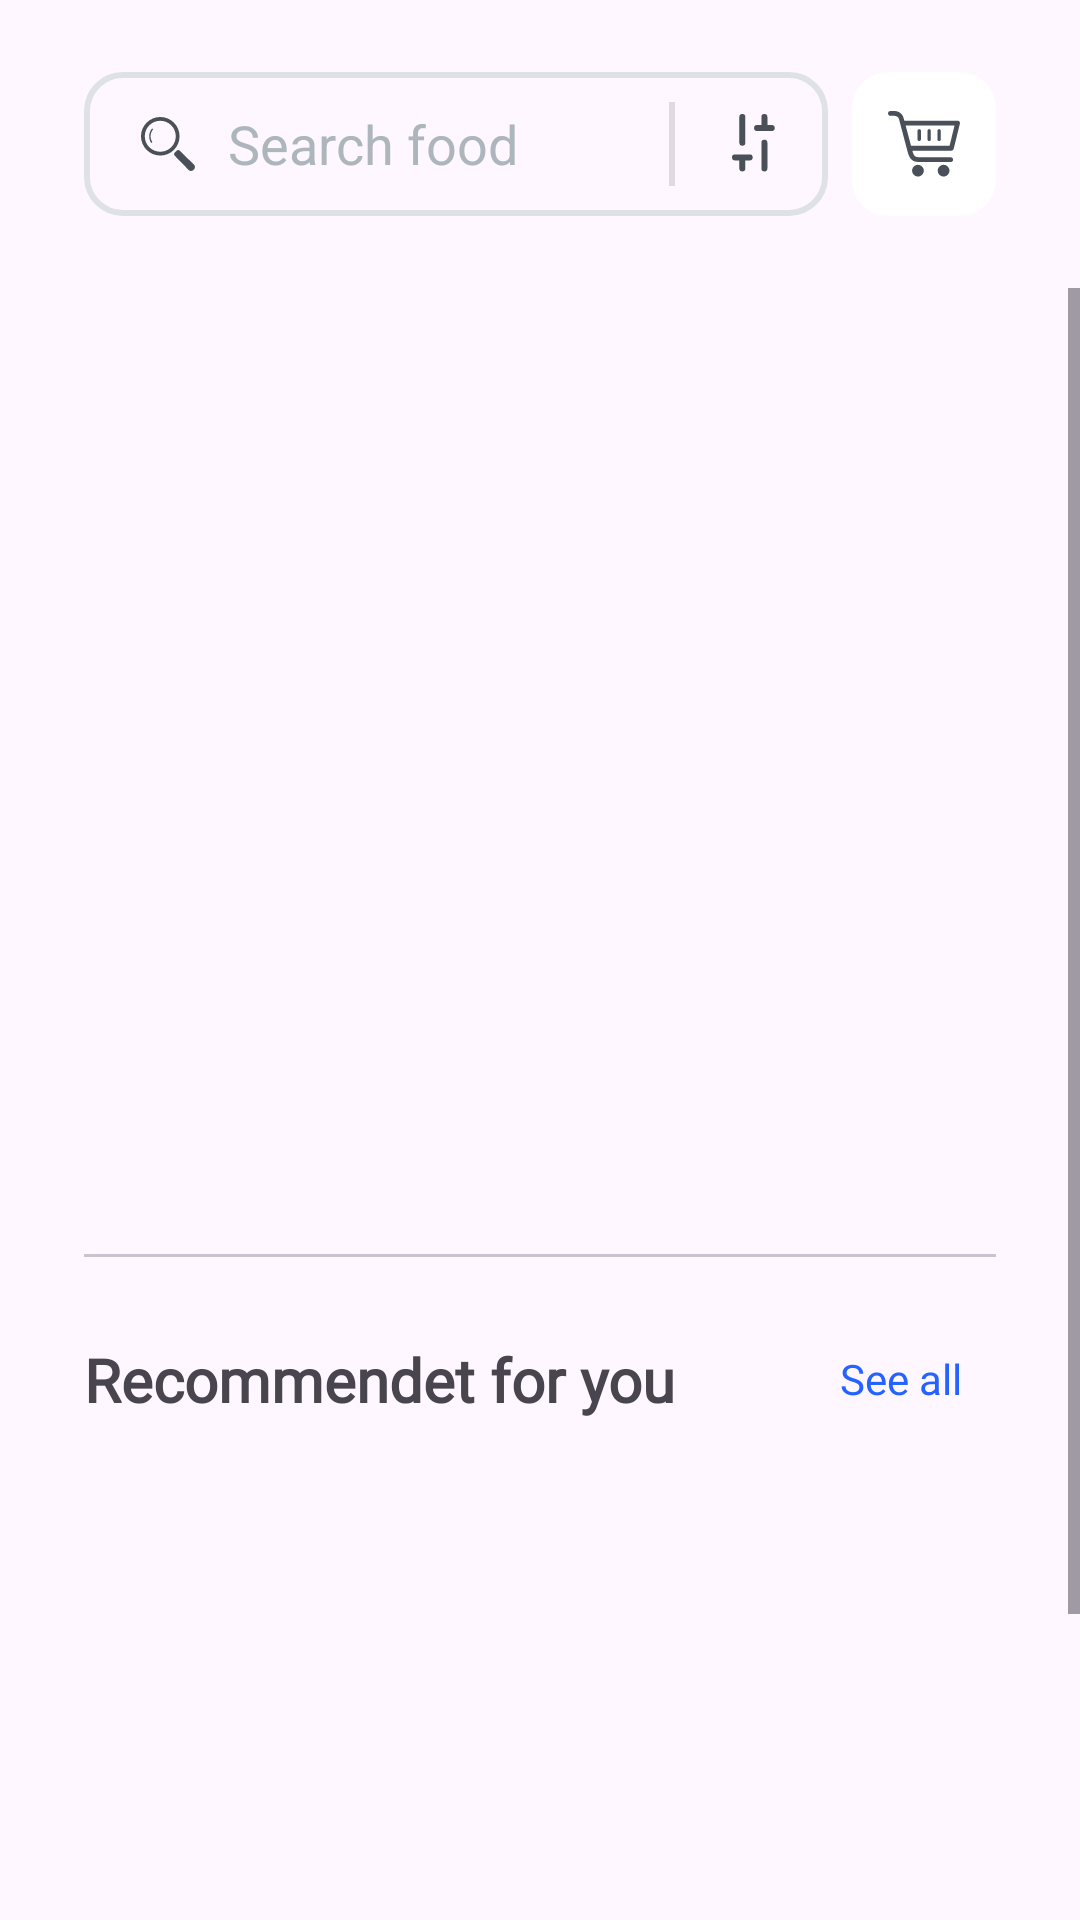

Screen size 1080x1920. Icon name, then its box in pixels as [x1=x1, y1=y1, x2=x2, y2=y2]:
cart: [x1=888, y1=111, x2=960, y2=177]
filter: [x1=732, y1=114, x2=775, y2=172]
